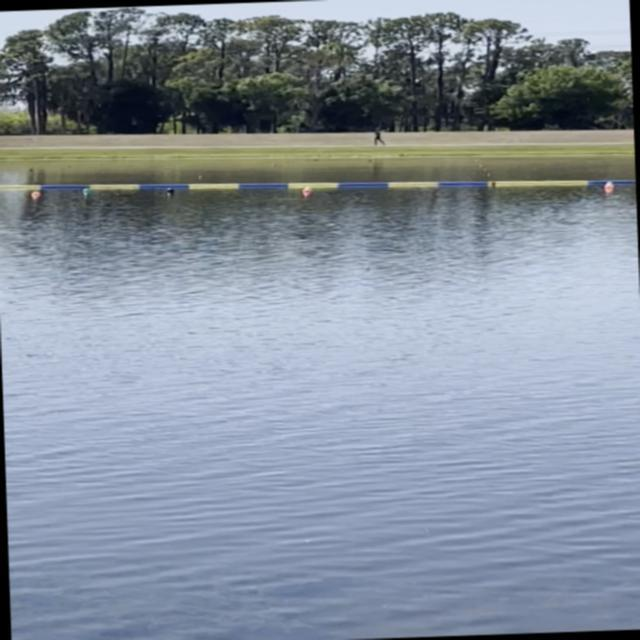buoy: (601, 182, 617, 192), (30, 190, 45, 198), (164, 186, 178, 194), (301, 187, 313, 194), (81, 188, 91, 193)
